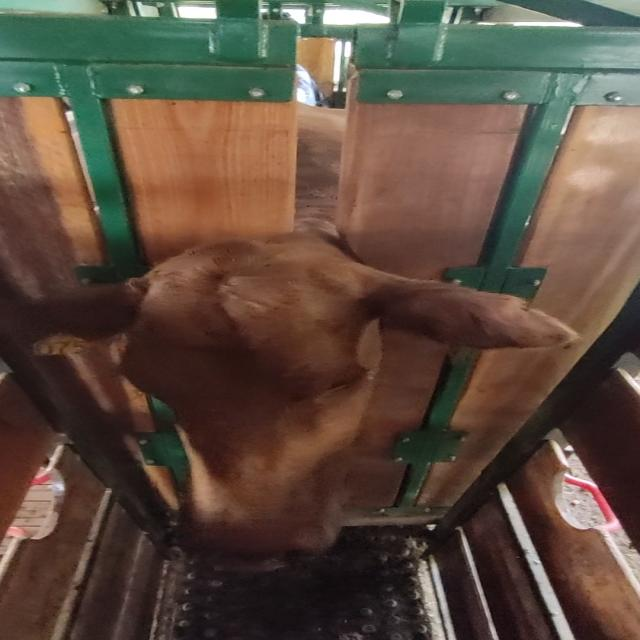cowFace: (123, 241, 376, 571)
